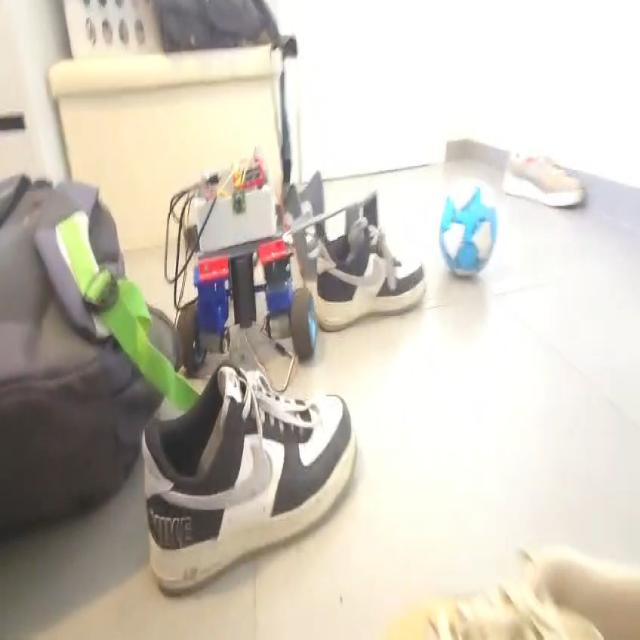Robot: (176, 158, 316, 374)
